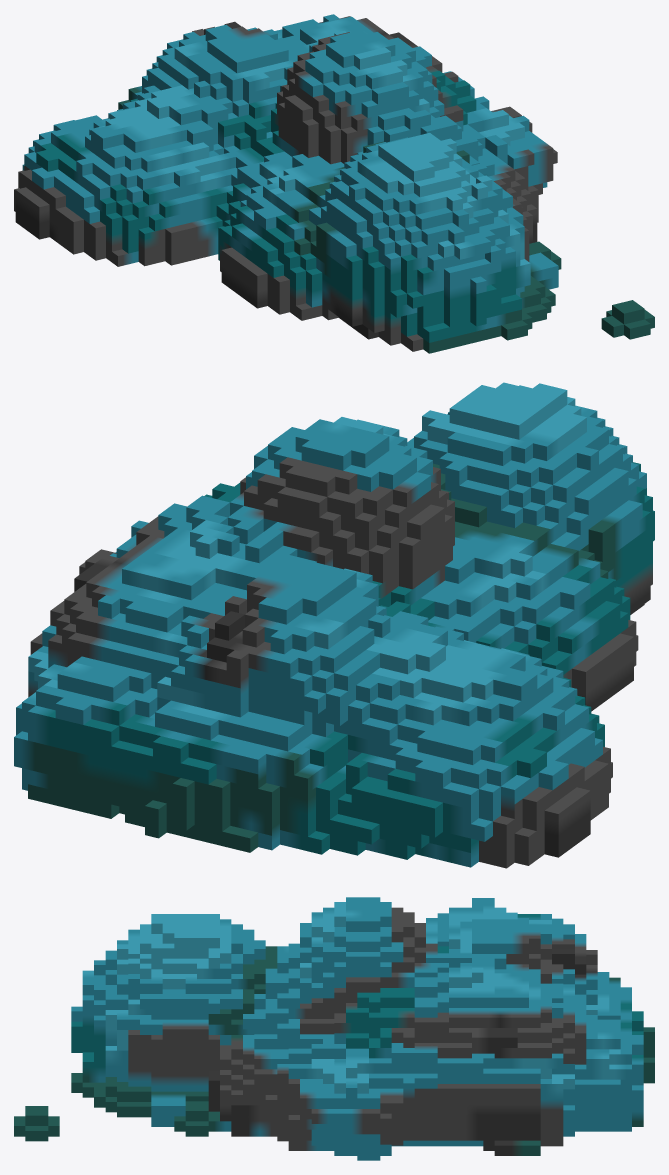
The model's file is mossrocksmall.fbx.
3 views of the same model, one above another, from view 1: azimuth 30°, elevation 25°; view 2: azimuth 150°, elevation 25°; view 3: azimuth 270°, elevation 25° (orthographic). The views are drawn at different scales.
Parts seen in each view (by area): view 1: rocksnow3small_1; view 2: rocksnow3small_1; view 3: rocksnow3small_1.
Part boxes in pixels (left/top/right/bottom): rocksnow3small_1: left=14, top=14, right=654, bottom=353; rocksnow3small_1: left=14, top=382, right=654, bottom=868; rocksnow3small_1: left=14, top=897, right=654, bottom=1160.
Bounding box in the file's own units: 42 × 17 × 56.
1 material, 1 textured.
